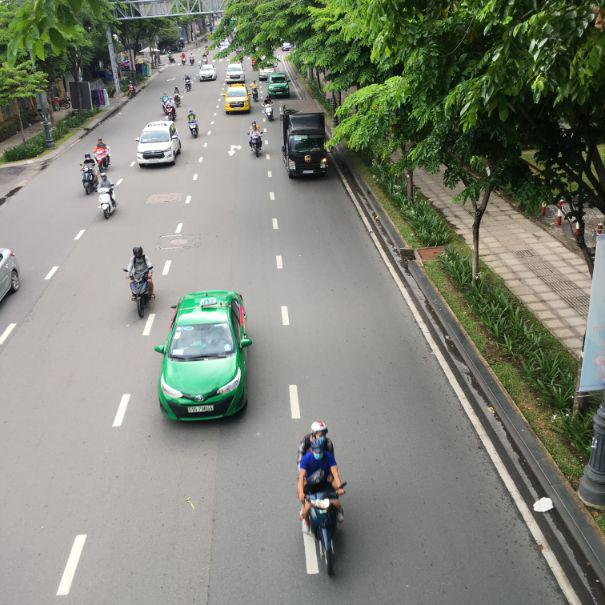car: (155, 288, 255, 423), (136, 122, 181, 167), (223, 86, 251, 113), (269, 74, 291, 99), (226, 63, 244, 81), (200, 63, 218, 80)
motorbike: (293, 462, 351, 576), (129, 270, 154, 318), (98, 178, 122, 221), (75, 164, 100, 197), (248, 132, 264, 158), (187, 111, 199, 138)
truck: (283, 108, 329, 180)
